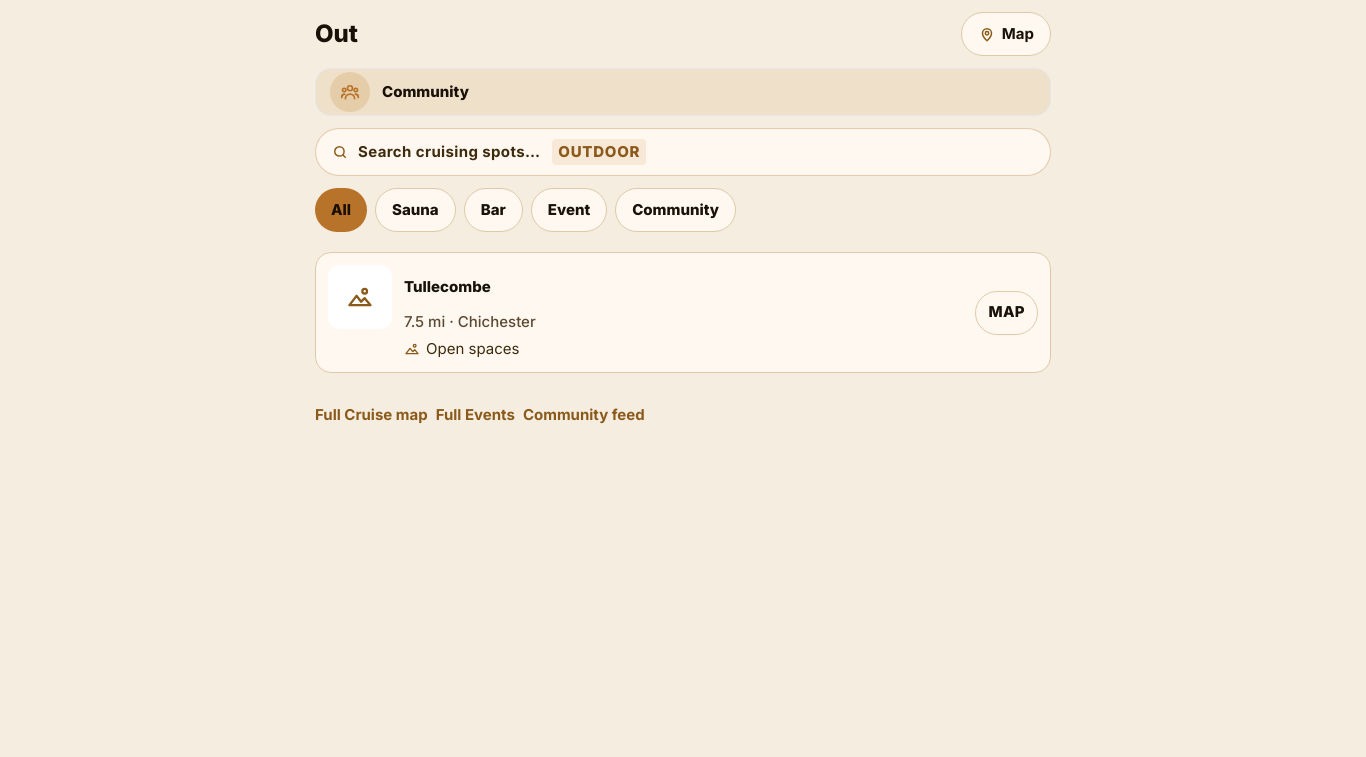
Test: Out list refreshes after a check-in from the spot sheet › Ghost viewer: no client +1, the count stays at the server value
Click the button "Tullecombe" at (447, 286), box [404,265,963,309]
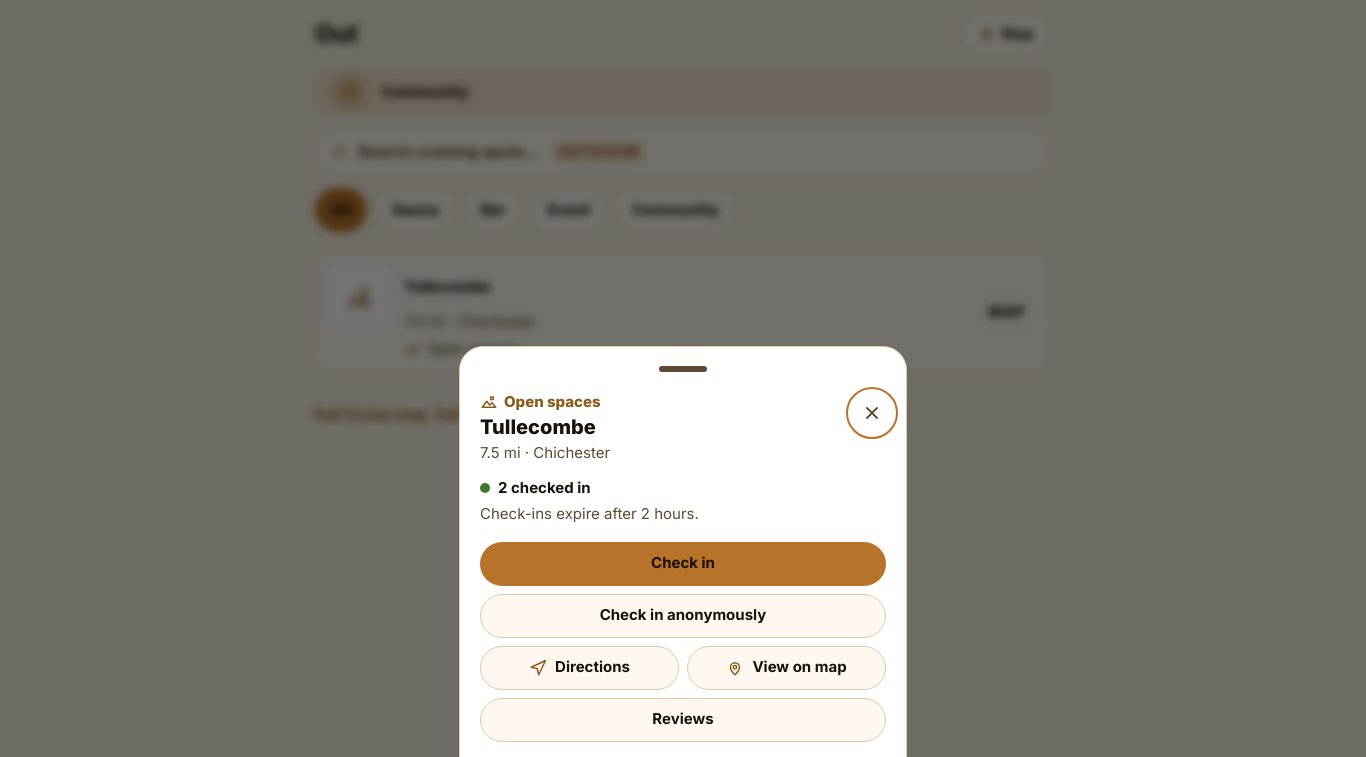
Click the button with test id "hotspot-sheet-checkin-anon" at (683, 616), box [480,594,886,638]
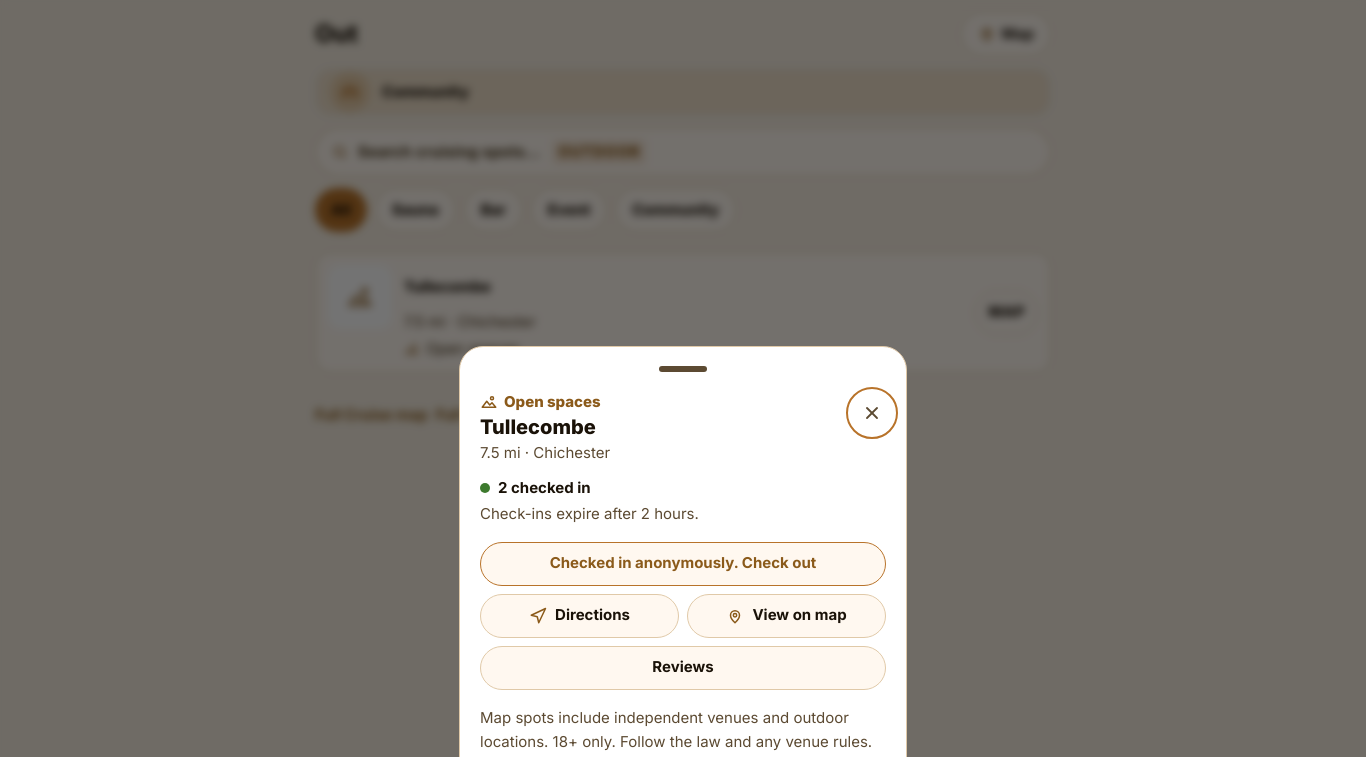
Check: the element with test id "hotspot-sheet-activity" does not show "3 checked in", box [480,478,591,497]
Check: the element with test id "hotspot-sheet-activity" reads "2 checked in", box [498,478,591,497]
Check: the button with test id "hotspot-sheet-checkout" is shown, box [480,542,886,586]
